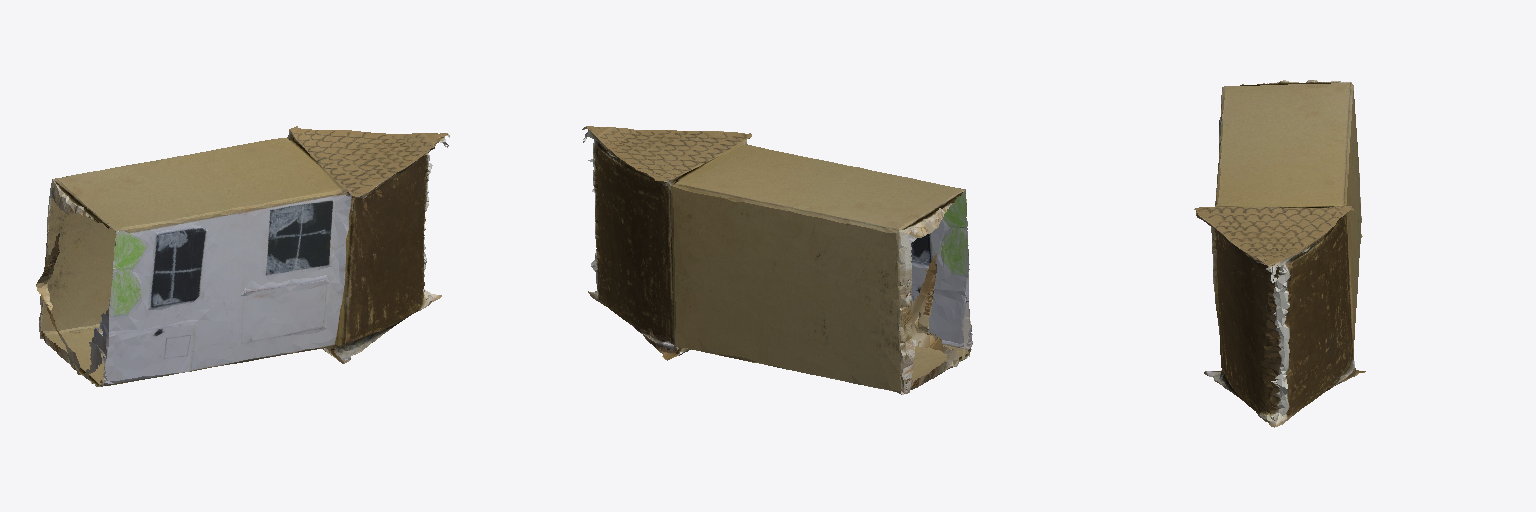
The picture shows the model from 3 angles: view 1: azimuth 30°, elevation 25°; view 2: azimuth 150°, elevation 25°; view 3: azimuth 270°, elevation 25°; orthographic projection.
Size of the model in its own units: 4.61 by 2.14 by 1.81.
Materials: 1 (1 with a texture image).